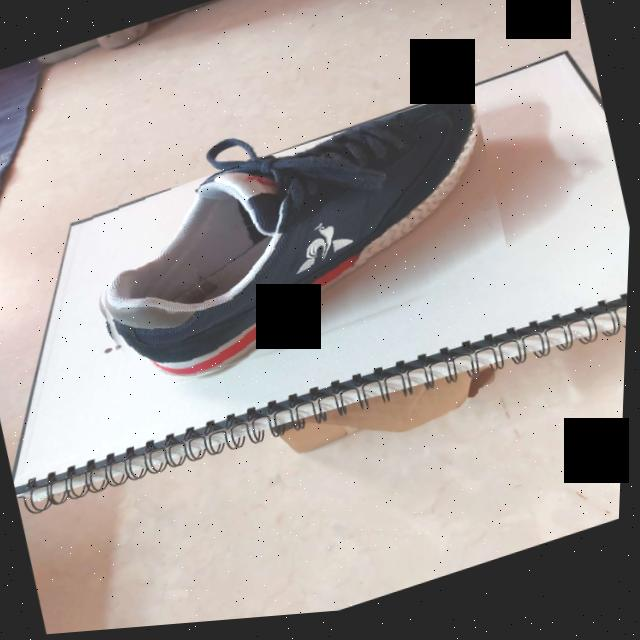shoe: (74, 93, 521, 411)
